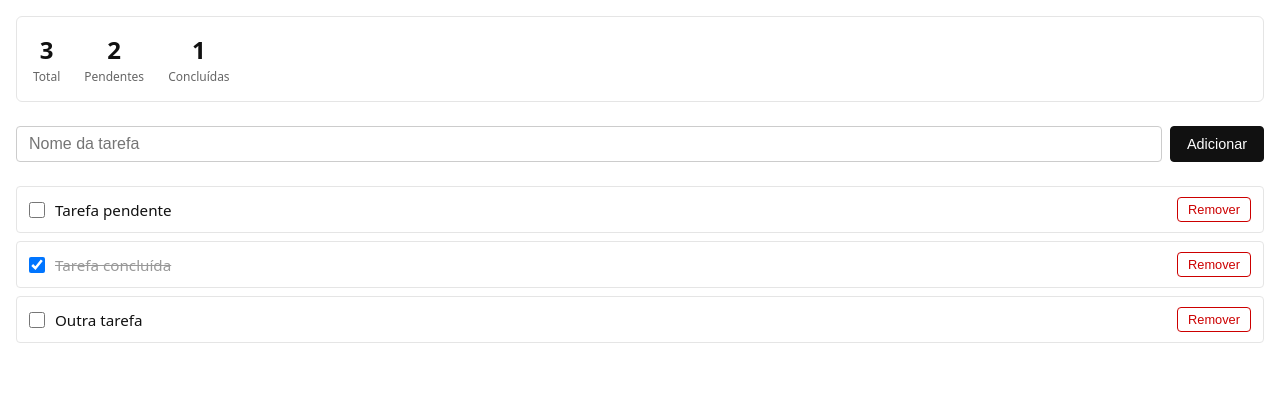
it: ListaTarefas › Adicionar tarefa › atualiza o contador total após adicionar
Type "Mais uma" into the field named "nome da nova tarefa".
click(589, 144); type("Mais uma")  # box [16,126,1162,162]
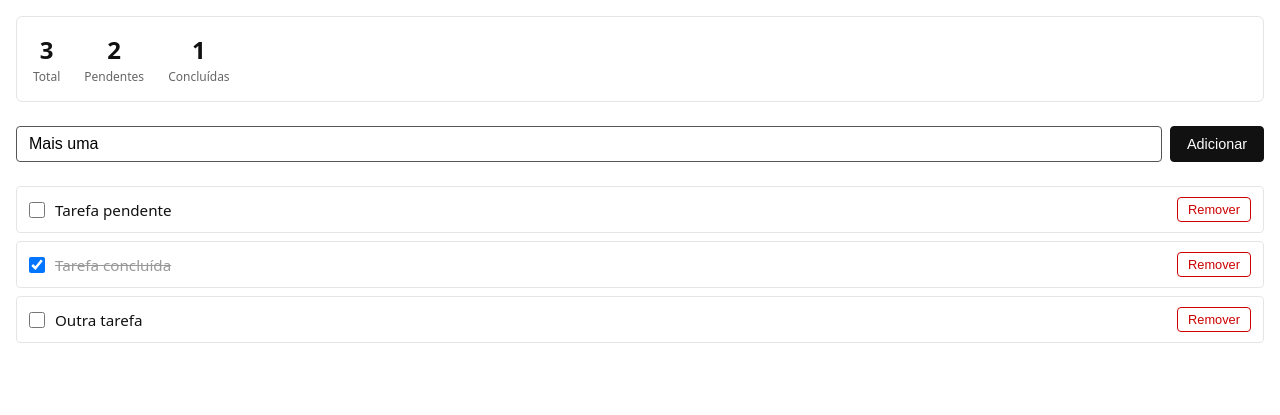
Submit the form named "nome da nova tarefa", box [16,126,1264,162]
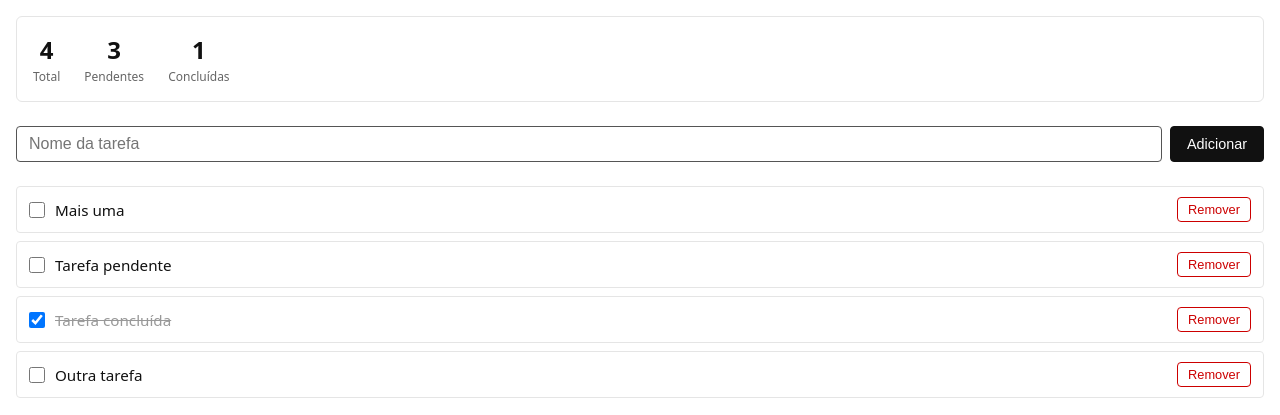
Expected: the text with class "contador-numero" reads "4", [40,33,54,66]
